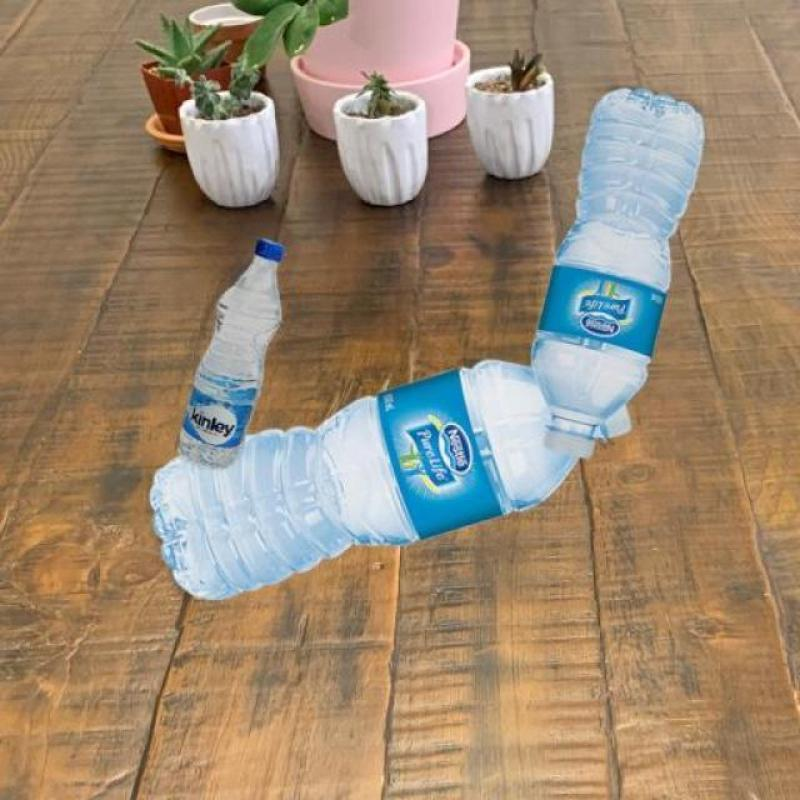botella: (147, 359, 632, 609), (528, 85, 708, 460), (175, 236, 287, 465)
